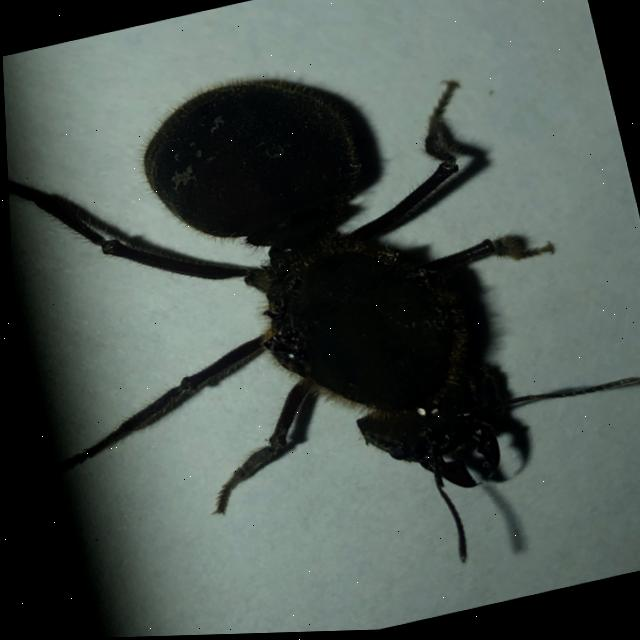Alive-Female-Dealate: (1, 5, 640, 640)
